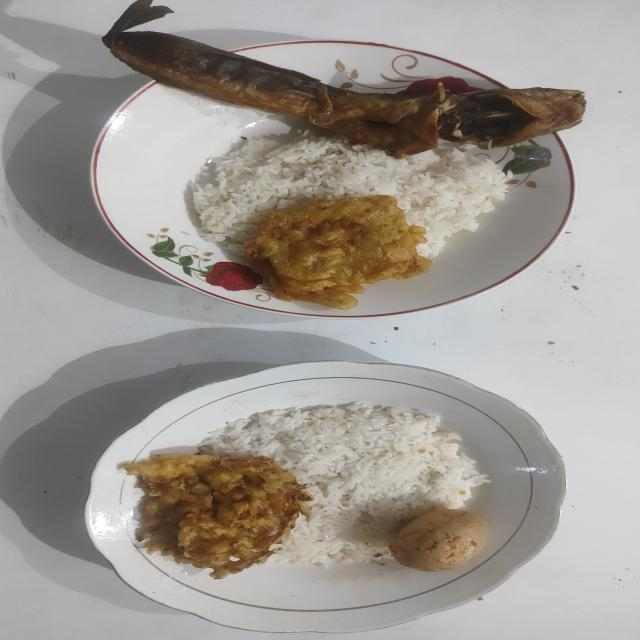nasi_putih: (200, 402, 490, 568), (191, 130, 509, 258)
